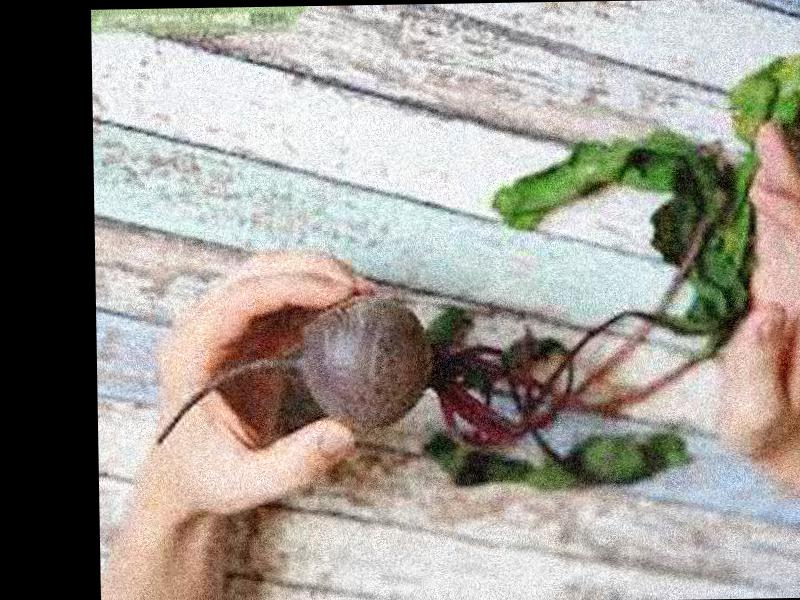Beet: (150, 55, 800, 493)
